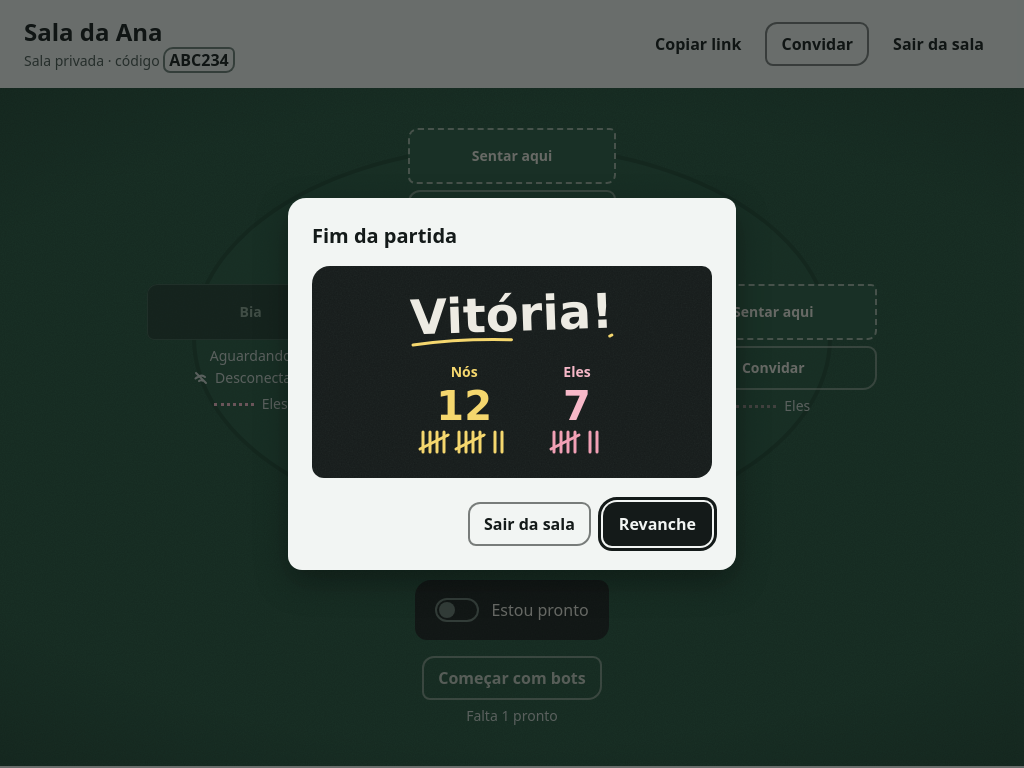
Test: SalaView › fim de partida: o modal aparece sobre a sala de espera, "Revanche" o fecha e ele não volta
The image size is (1024, 768).
Expected: the dialog shows "Vitória", 410,282 -> 614,346
Click the button "Revanche". click: (657, 524)
box: 603,502 -> 712,546
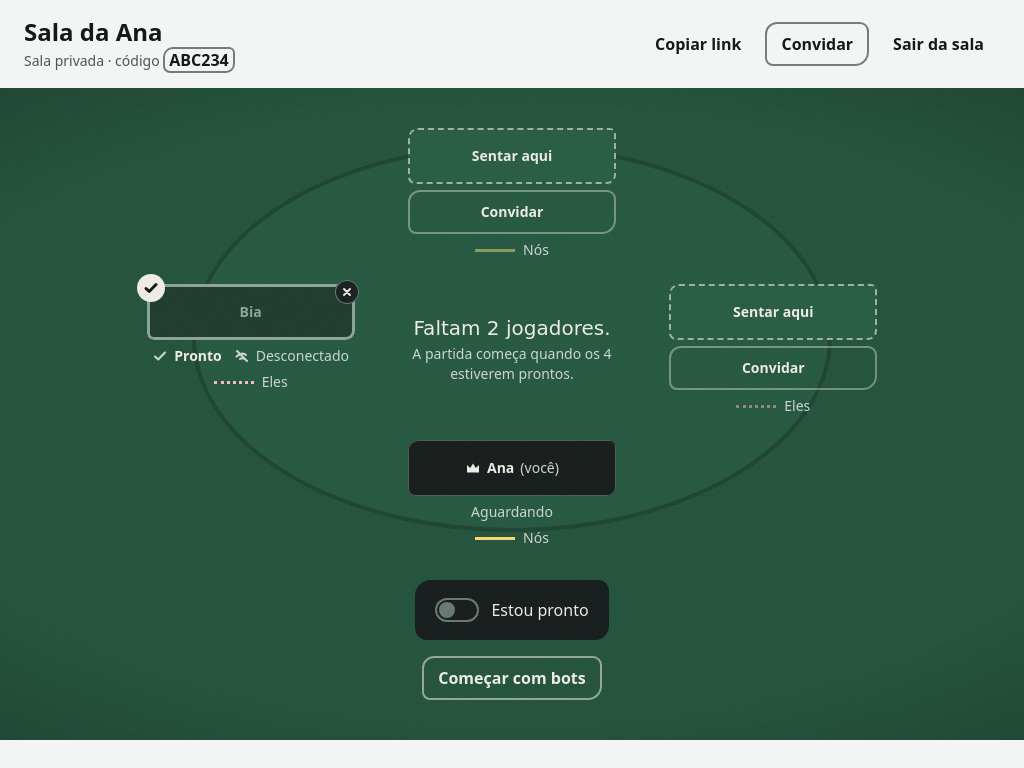
Result: the dialog is gone
